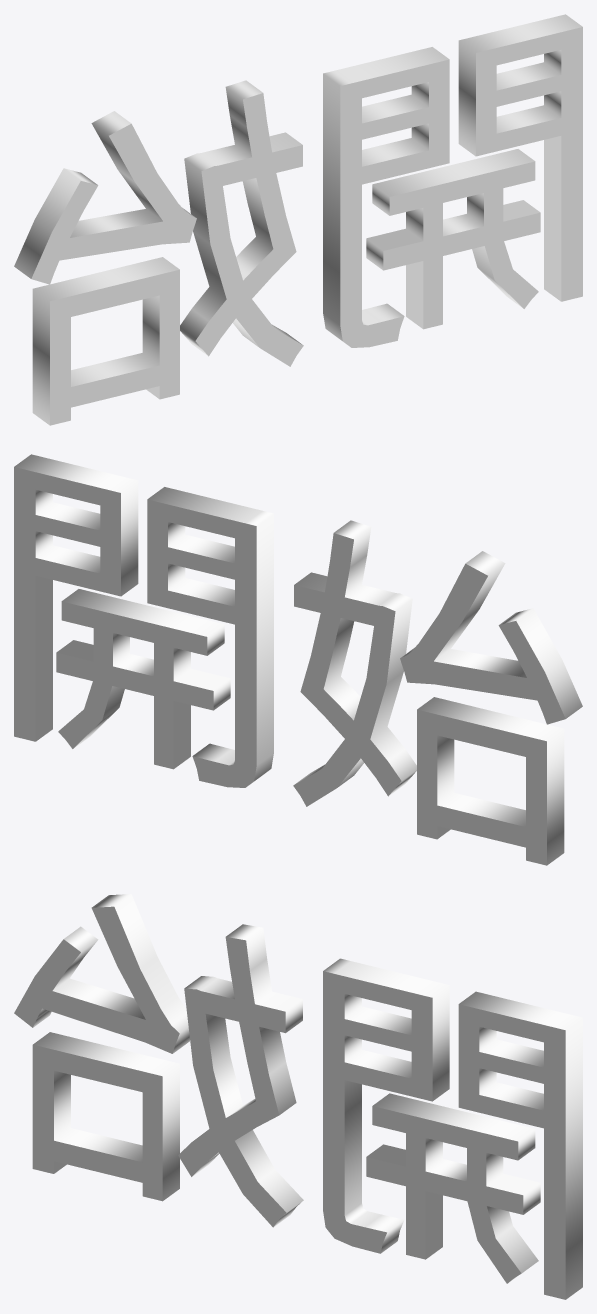
The model's file is Start.obj.
3 renders of one model, top to bottom at view 1: azimuth 30°, elevation 25°; view 2: azimuth 150°, elevation 25°; view 3: azimuth 330°, elevation 25°, orthographic.
Visible parts, largest first — view 1: テキスト; view 2: テキスト; view 3: テキスト.
Part boxes in pixels (left/top/right/bottom): テキスト: left=14, top=14, right=582, bottom=425; テキスト: left=14, top=454, right=582, bottom=865; テキスト: left=14, top=894, right=582, bottom=1299.
Bounding box in the file's own units: 1.88 × 0.922 × 0.1018.
1 material, 1 textured.
